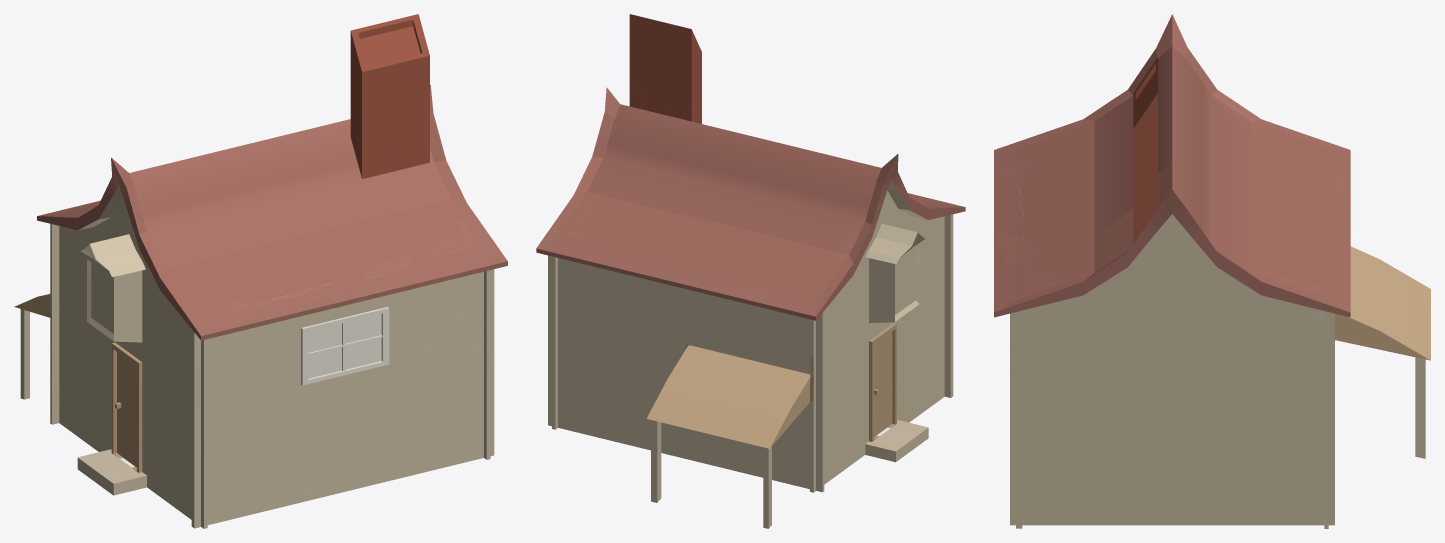
File: house1 unwrapped.fbx
The picture shows the model from 3 angles, left to right: view 1: azimuth 30°, elevation 25°; view 2: azimuth 150°, elevation 25°; view 3: azimuth 270°, elevation 25°; orthographic projection. The views are drawn at different scales.
Visible parts, largest first — view 1: brokenHouse2:pCube1; view 2: brokenHouse2:pCube1; view 3: brokenHouse2:pCube1.
Boxes of the visible parts, bbox=[...] form: brokenHouse2:pCube1: bbox=[14, 14, 507, 528]; brokenHouse2:pCube1: bbox=[536, 14, 965, 528]; brokenHouse2:pCube1: bbox=[994, 14, 1430, 528].
Bounding box in the file's own units: 23.25 × 26.61 × 23.73.
Materials: 1 (1 with a texture image).
